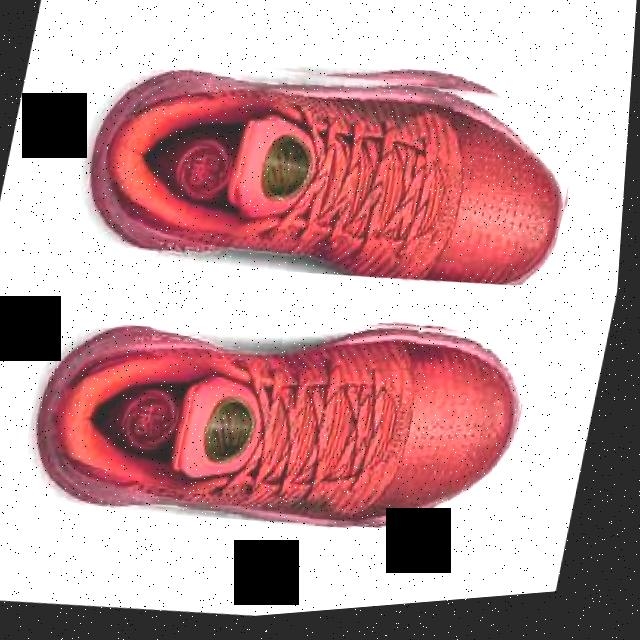shoe: (18, 270, 548, 575), (69, 22, 595, 328)
